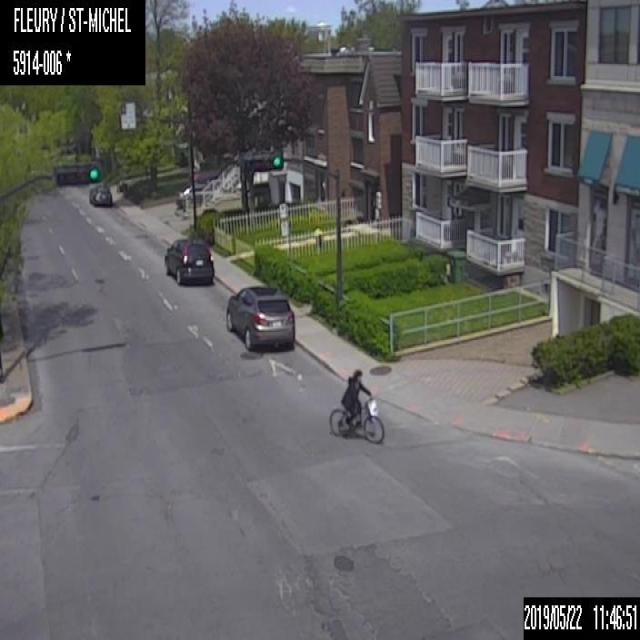cyclist: (326, 368, 386, 443)
vehicle: (223, 281, 294, 352), (162, 236, 215, 287), (87, 182, 114, 206)
